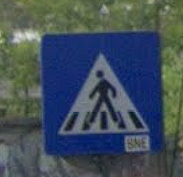trecere_pietoni: (38, 28, 168, 157)
